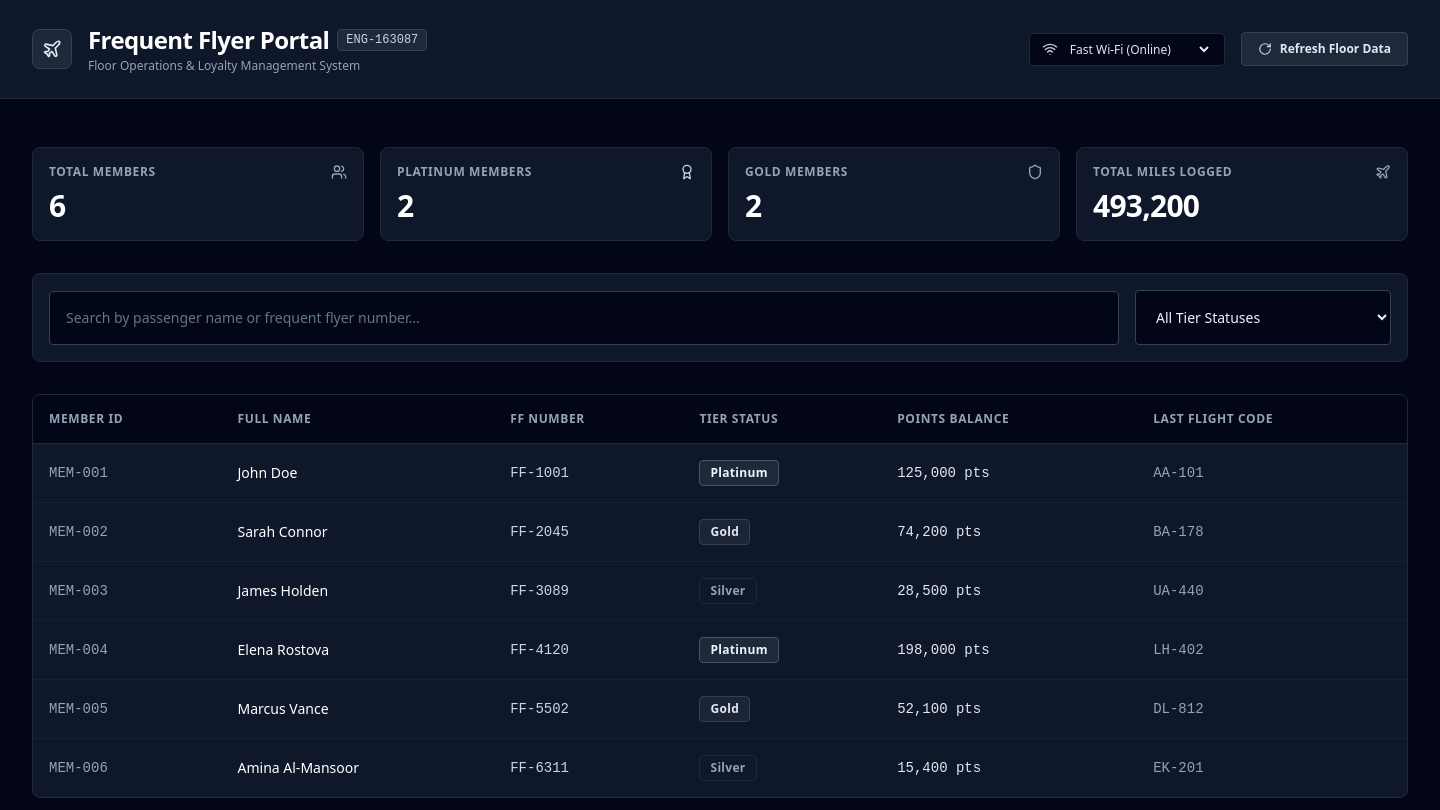
Ticket ENG-163087: Frequent Flyer Portal - Strict TDD Test Suite › 2. Unhappy Path & Edge Cases › displays visible loading indicator with role="status" and aria-busy="true" during network operations
Select "Slow 3G (800ms delay)" in the dropdown named "network connectivity simulation" at (1139, 49), box x1=1066 y1=40 x2=1212 y2=58
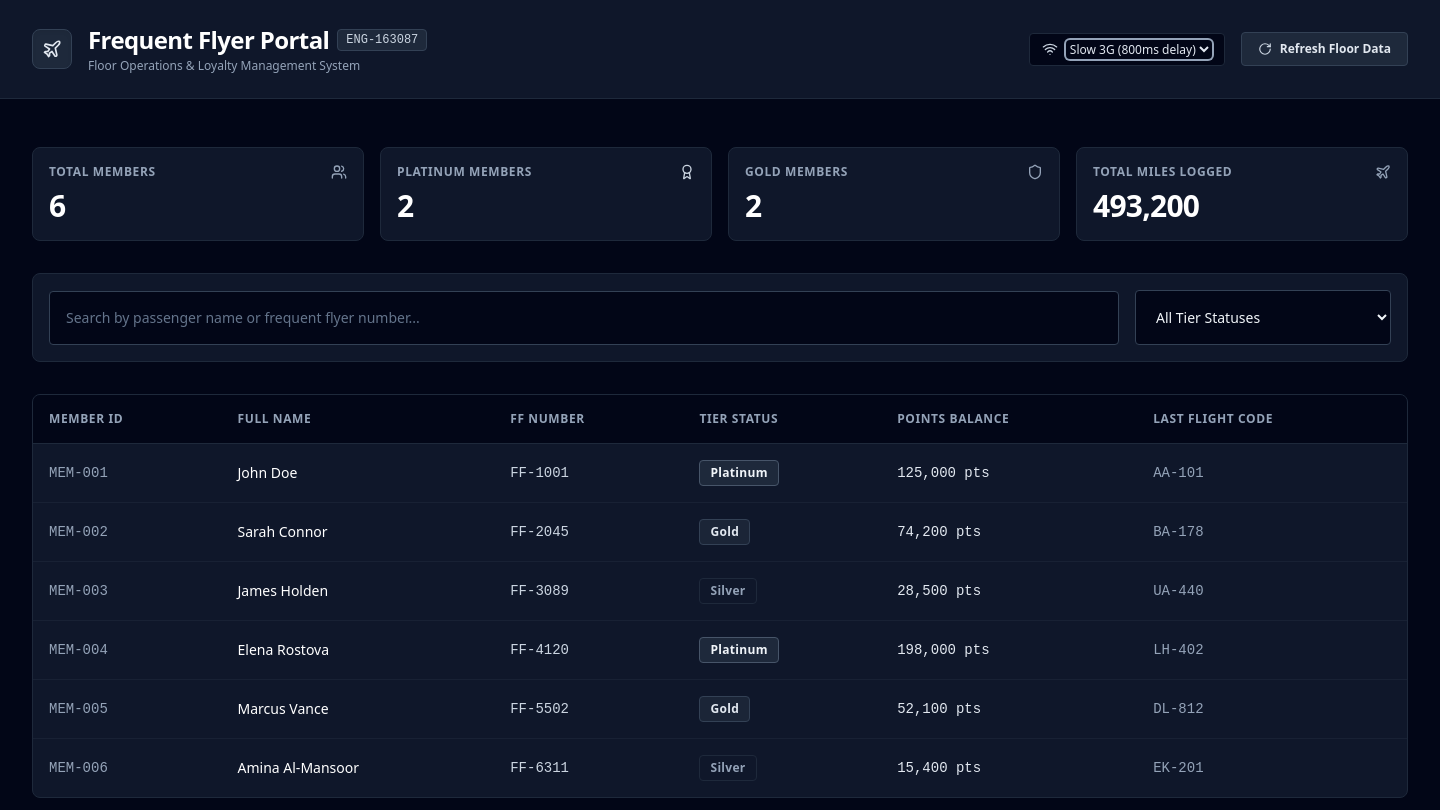
Click the button "Refresh Floor Data" at (1324, 49), box x1=1241 y1=32 x2=1408 y2=66
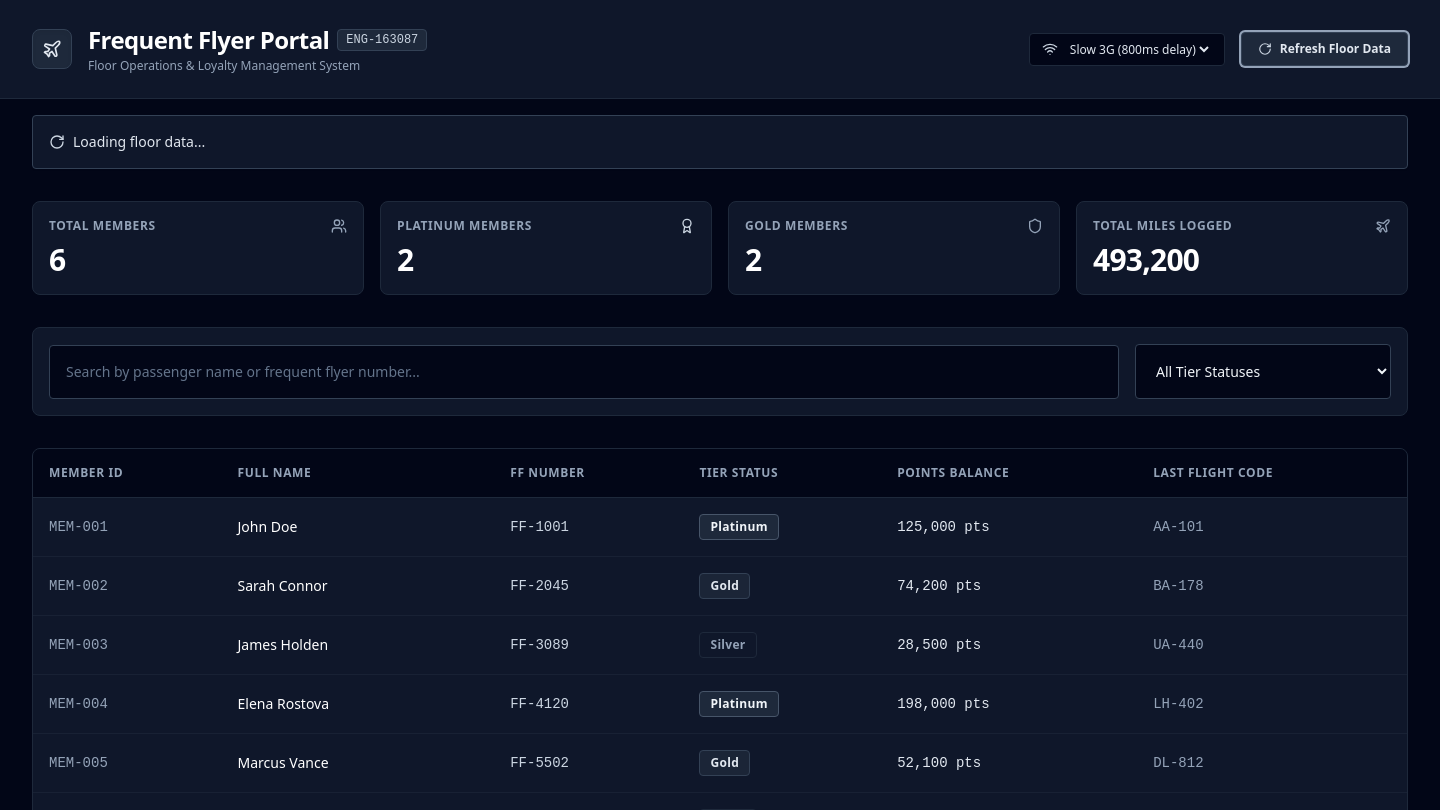
Result: the message "Loading floor data..." is shown at x1=32 y1=115 x2=1408 y2=169
